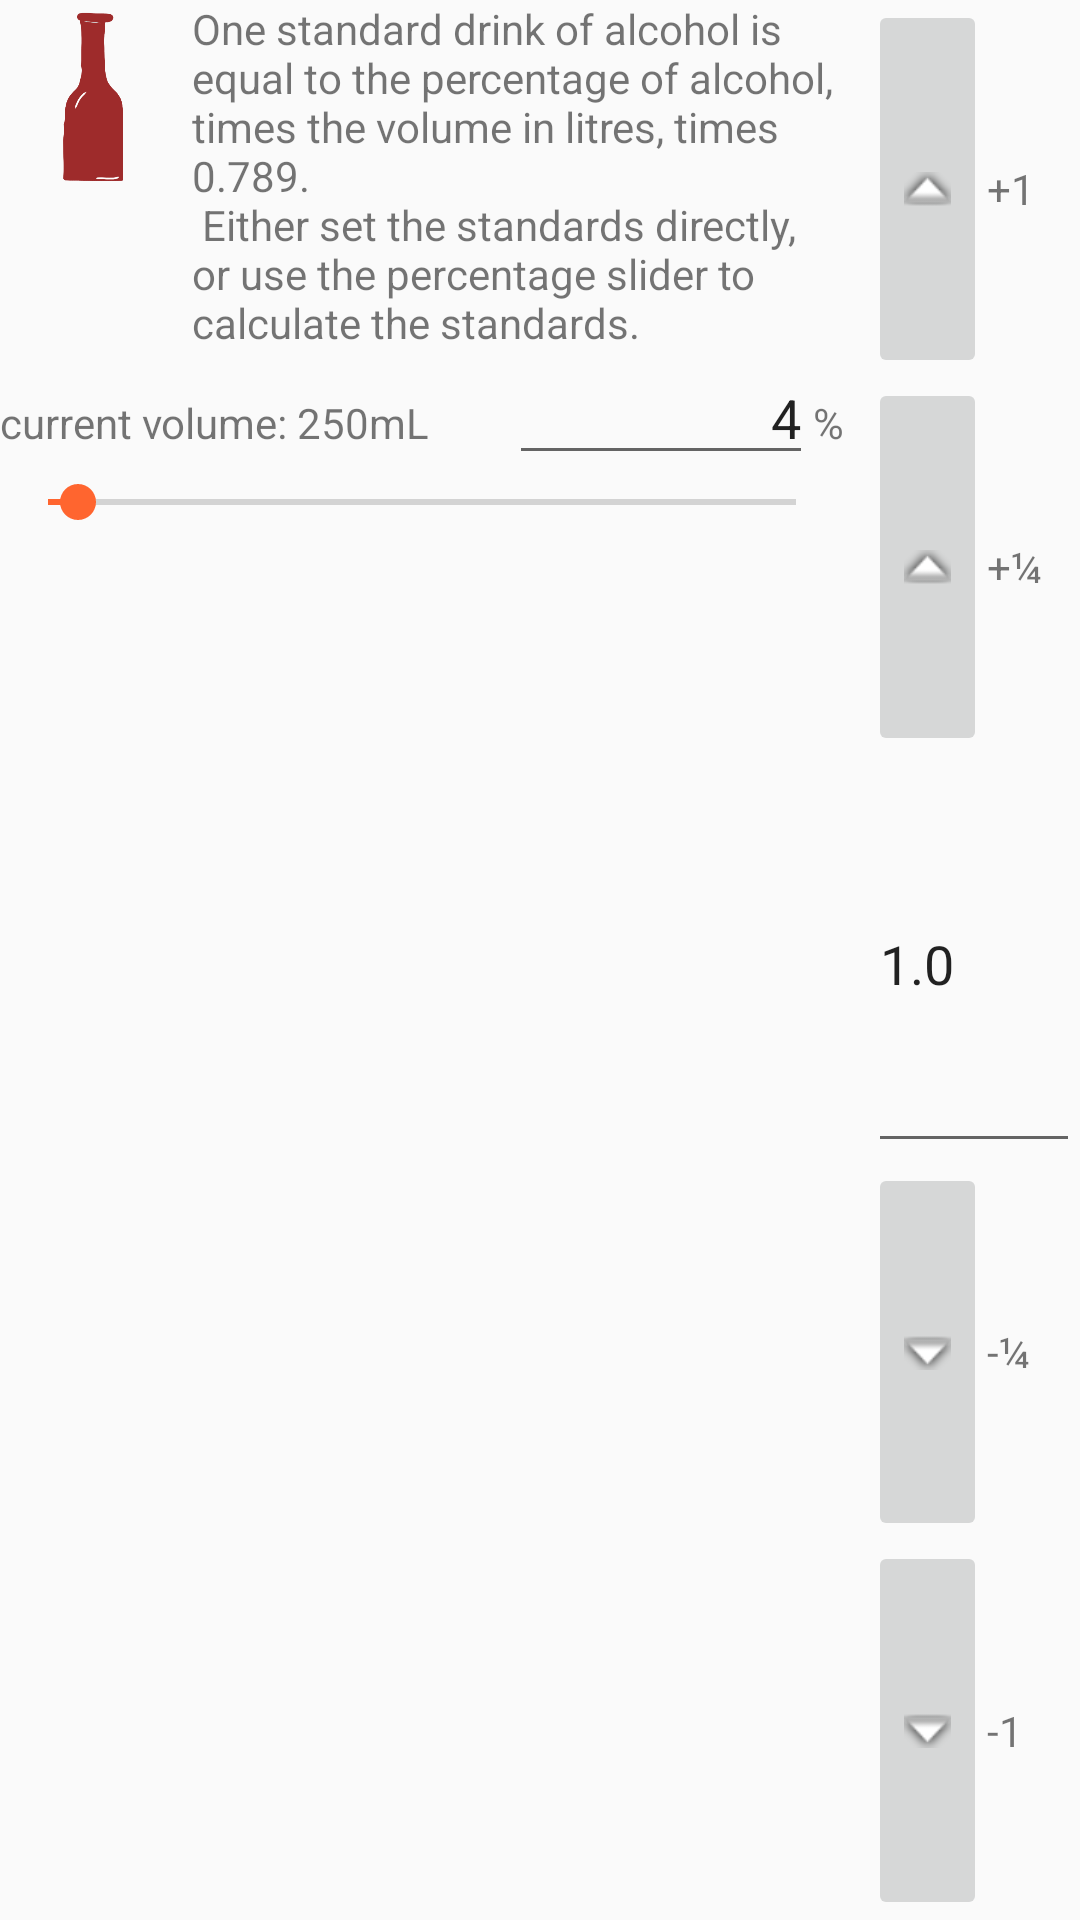

Named icons in this screenshot (1080×1920) and their bounding boxes, (x1, y1, x2, y2):
down arrow: (880, 1181, 975, 1523), (880, 1559, 975, 1902)
Image depicting food group: (63, 13, 123, 181)
up arrow: (880, 18, 975, 360), (880, 396, 975, 738)
